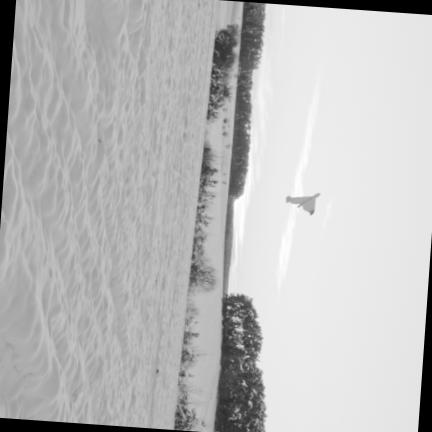Shahed: (284, 192, 320, 216)
